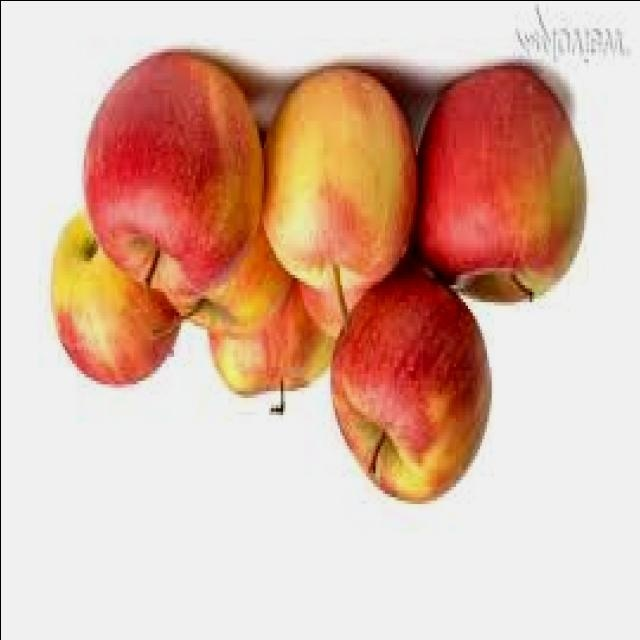agrume: (400, 26, 625, 326), (257, 134, 451, 388), (305, 273, 491, 529), (79, 51, 260, 310), (169, 193, 341, 459), (272, 60, 425, 296), (26, 222, 182, 426), (156, 139, 300, 354)
